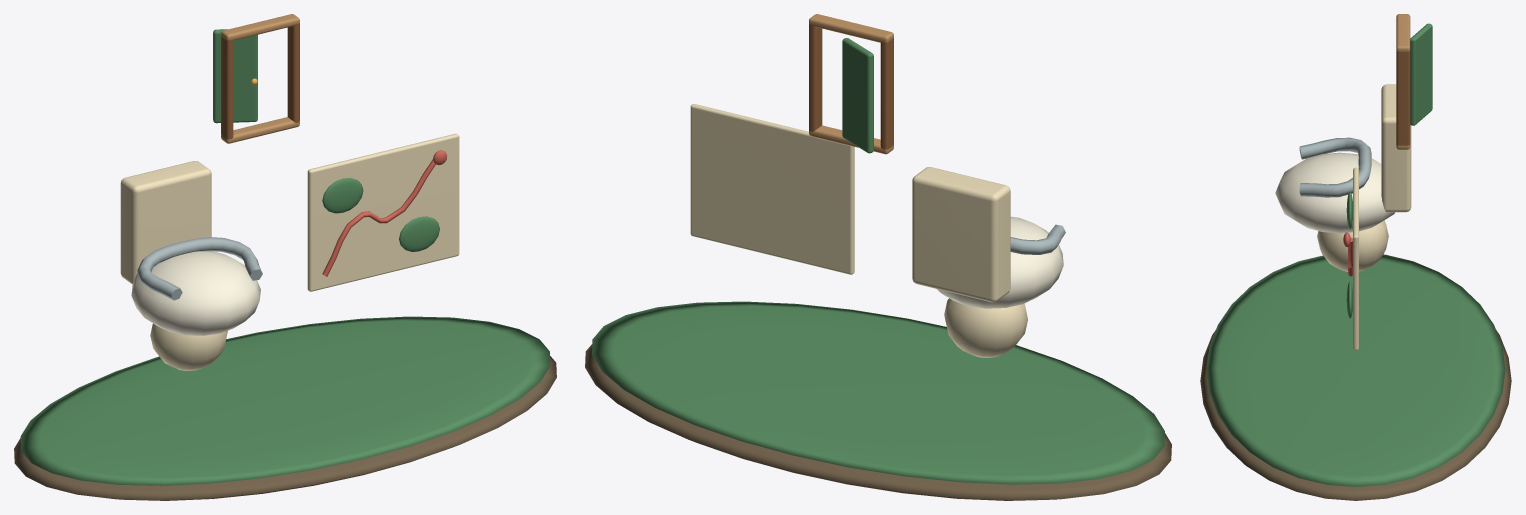
File: complete-third-toilet-place.glb
The picture shows the model from 3 angles, left to right: view 1: azimuth 30°, elevation 25°; view 2: azimuth 150°, elevation 25°; view 3: azimuth 270°, elevation 25°; orthographic projection. The views are drawn at different scales.
Visible parts, largest first — view 1: complete-third-toilet-place_surface_01, complete-third-toilet-place_surface_02, complete-third-toilet-place_surface_00, complete-third-toilet-place_surface_03, complete-third-toilet-place_surface_04, complete-third-toilet-place_surface_06, complete-third-toilet-place_surface_07, complete-third-toilet-place_surface_05; view 2: complete-third-toilet-place_surface_01, complete-third-toilet-place_surface_02, complete-third-toilet-place_surface_00, complete-third-toilet-place_surface_03, complete-third-toilet-place_surface_06, complete-third-toilet-place_surface_07, complete-third-toilet-place_surface_04; view 3: complete-third-toilet-place_surface_01, complete-third-toilet-place_surface_02, complete-third-toilet-place_surface_00, complete-third-toilet-place_surface_03, complete-third-toilet-place_surface_04, complete-third-toilet-place_surface_06, complete-third-toilet-place_surface_07.
Boxes of the visible parts, x1=… form: complete-third-toilet-place_surface_01: x1=20, y1=29, x2=550, y2=485; complete-third-toilet-place_surface_02: x1=120, y1=133, x2=459, y2=370; complete-third-toilet-place_surface_00: x1=14, y1=356, x2=556, y2=500; complete-third-toilet-place_surface_03: x1=131, y1=251, x2=260, y2=335; complete-third-toilet-place_surface_04: x1=137, y1=237, x2=262, y2=300; complete-third-toilet-place_surface_06: x1=221, y1=23, x2=299, y2=139; complete-third-toilet-place_surface_07: x1=221, y1=14, x2=299, y2=143; complete-third-toilet-place_surface_05: x1=322, y1=150, x2=447, y2=276; complete-third-toilet-place_surface_01: x1=592, y1=38, x2=1164, y2=484; complete-third-toilet-place_surface_02: x1=690, y1=104, x2=1027, y2=357; complete-third-toilet-place_surface_00: x1=585, y1=344, x2=1171, y2=500; complete-third-toilet-place_surface_03: x1=936, y1=216, x2=1063, y2=308; complete-third-toilet-place_surface_06: x1=809, y1=24, x2=893, y2=149; complete-third-toilet-place_surface_07: x1=809, y1=14, x2=893, y2=154; complete-third-toilet-place_surface_04: x1=1010, y1=224, x2=1065, y2=254; complete-third-toilet-place_surface_01: x1=1206, y1=23, x2=1505, y2=486; complete-third-toilet-place_surface_02: x1=1317, y1=84, x2=1411, y2=350; complete-third-toilet-place_surface_00: x1=1200, y1=330, x2=1511, y2=500; complete-third-toilet-place_surface_03: x1=1275, y1=152, x2=1394, y2=233; complete-third-toilet-place_surface_04: x1=1299, y1=137, x2=1371, y2=197; complete-third-toilet-place_surface_06: x1=1396, y1=51, x2=1410, y2=145; complete-third-toilet-place_surface_07: x1=1396, y1=14, x2=1410, y2=149.
Bounding box in the file's own units: 4.56 × 3.24 × 2.5.
